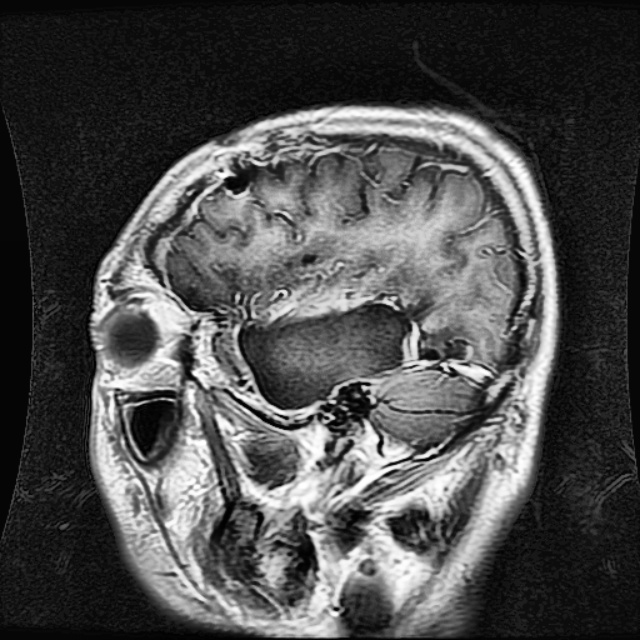Meningioma: (237, 300, 413, 410)
